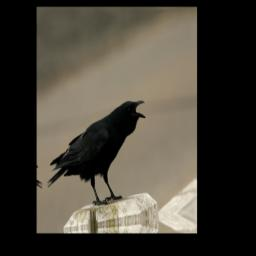Crow: (44, 98, 150, 215)
